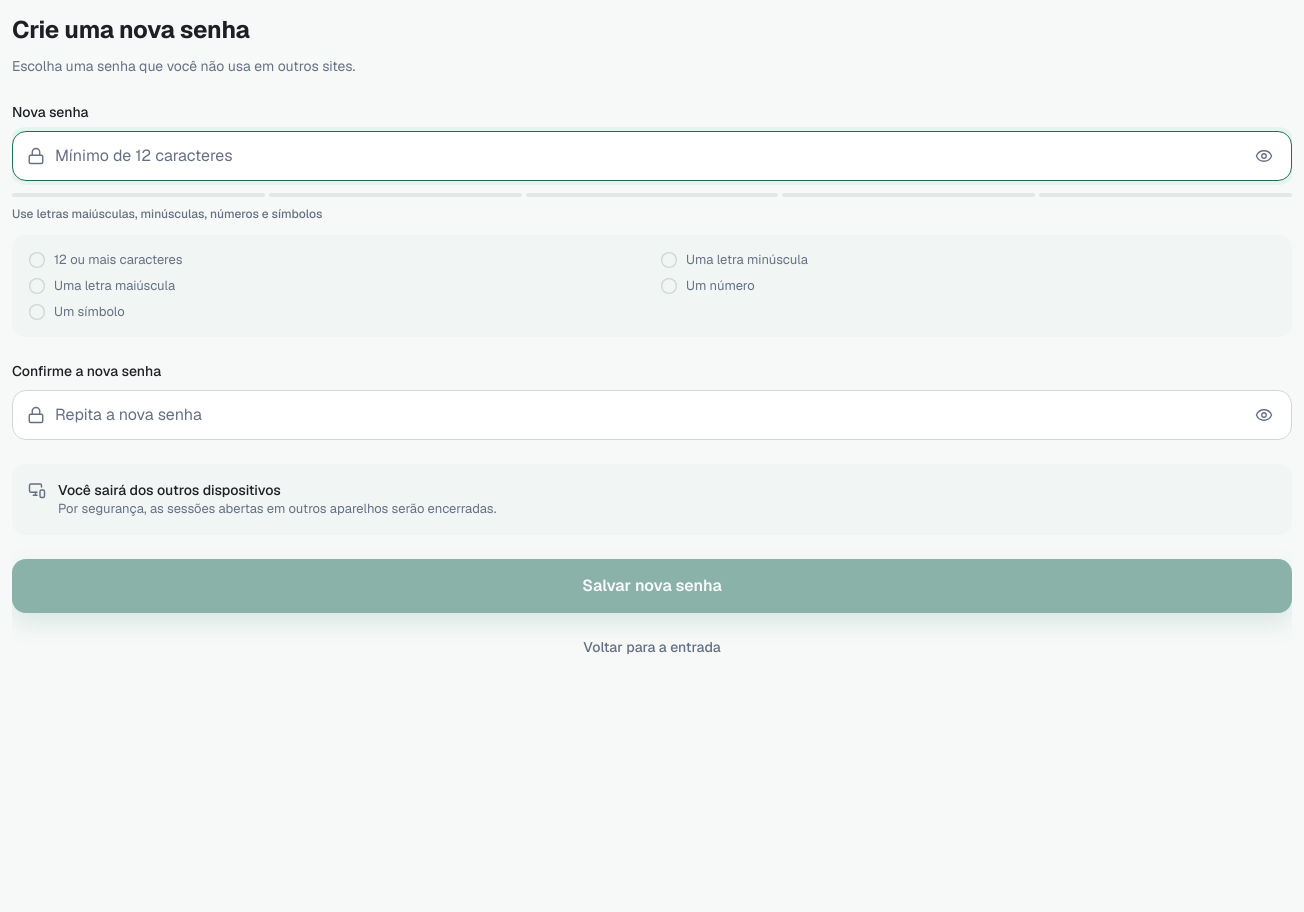
ResetPasswordForm › cobre a confirmação em branco, que o indicador não alcança
This screenshot has width=1304, height=912.
Type "NovaSenha@123" into the password field labelled "Nova senha" at (645, 156), box [55,132,1235,180]
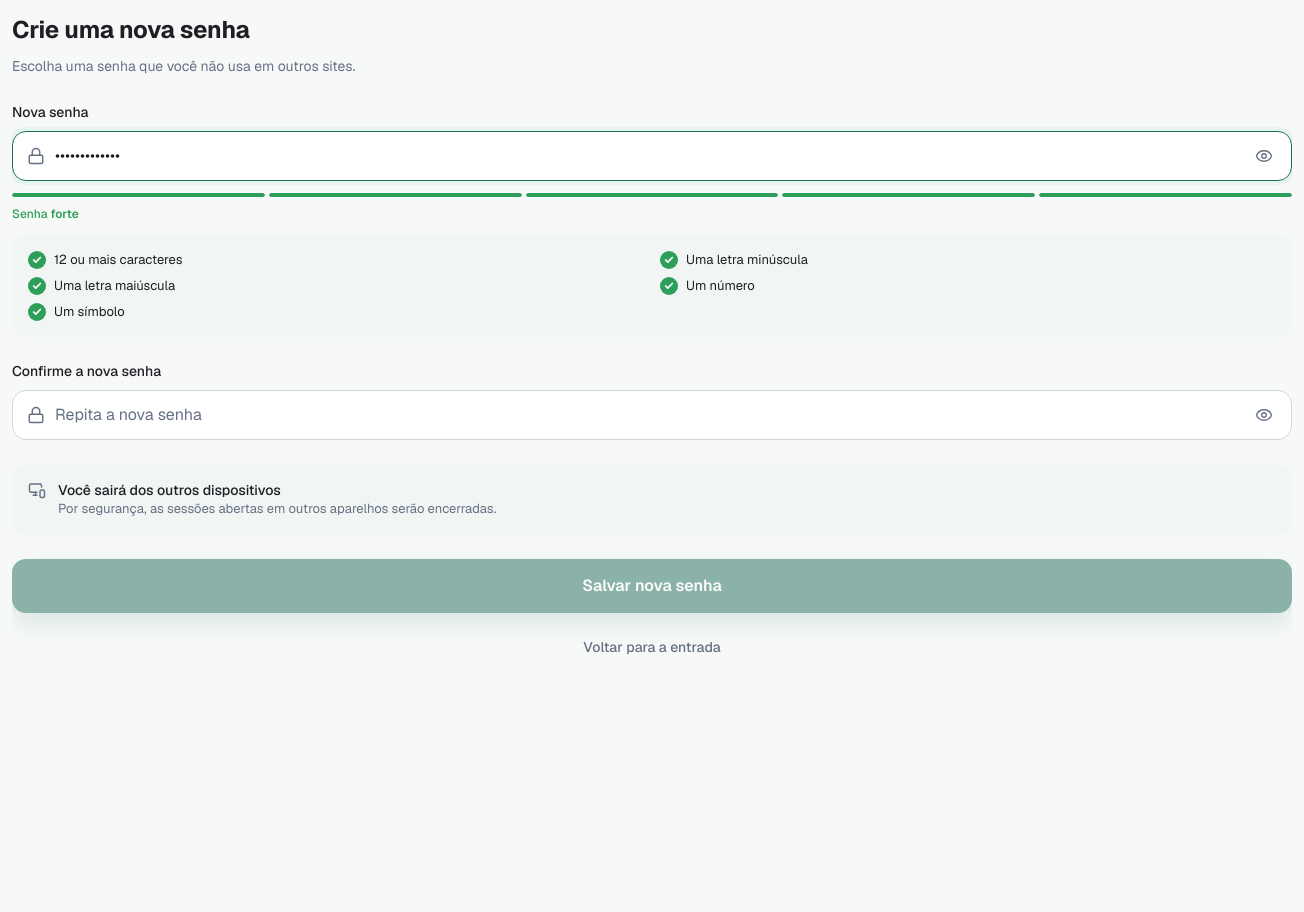
Click the button "Salvar nova senha" at (652, 586), box [12,559,1292,613]
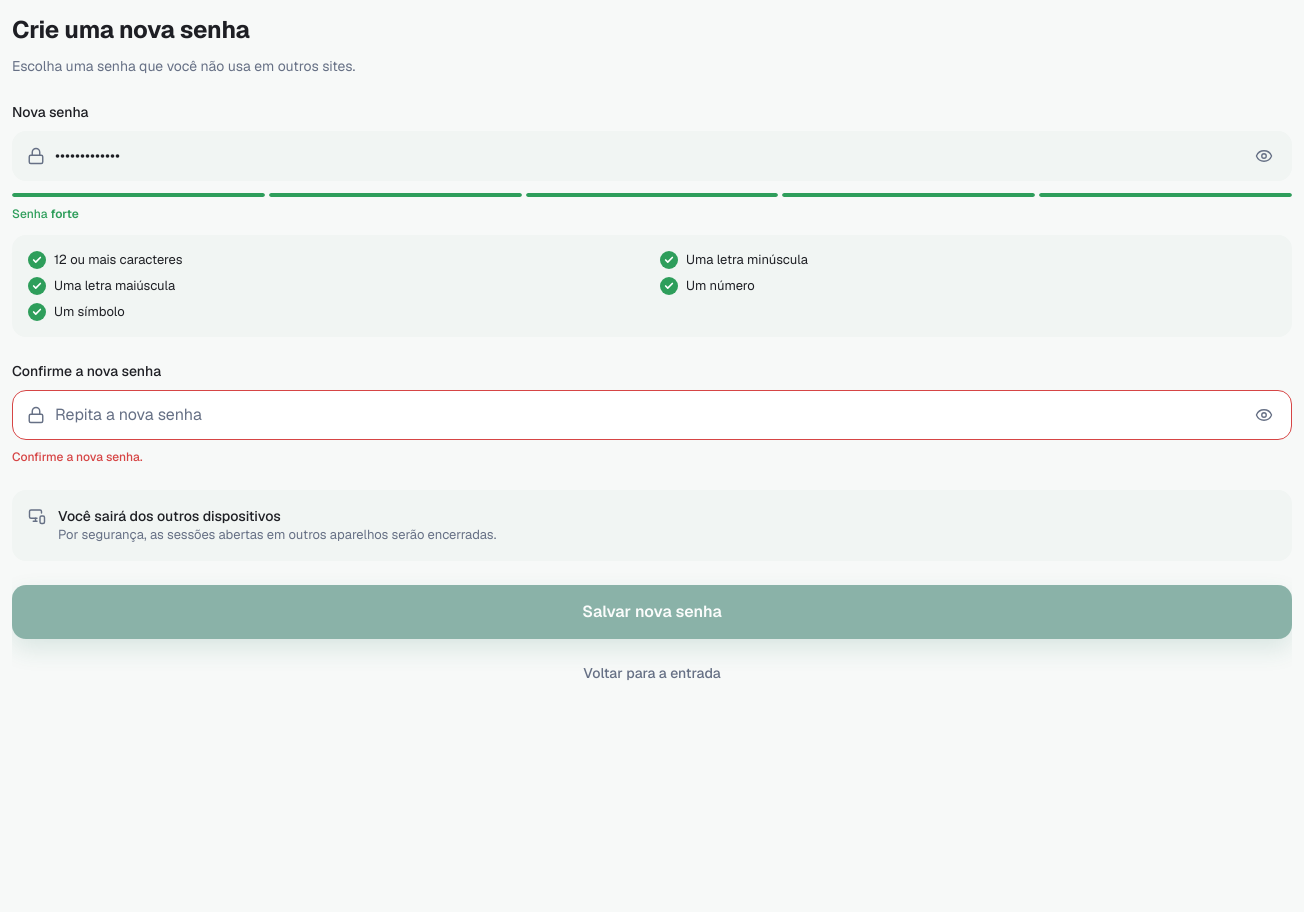
Expected: the text "Confirme a nova senha." is shown, [12,449,143,465]
